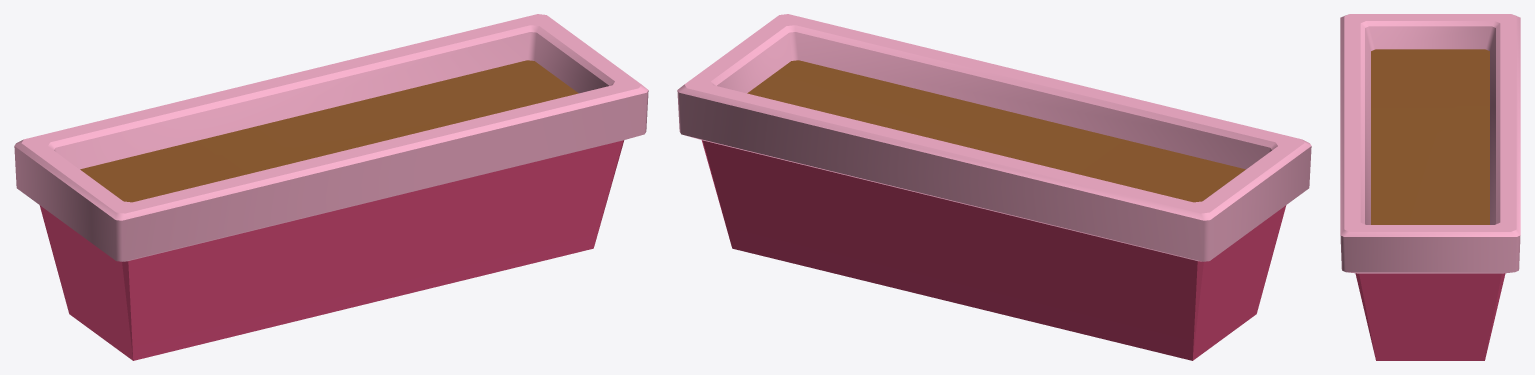
File: PlantPot_3_E.fbx
3 views of the same model, side by side, from view 1: azimuth 30°, elevation 25°; view 2: azimuth 150°, elevation 25°; view 3: azimuth 270°, elevation 25° (orthographic). The views are drawn at different scales.
Visible parts, largest first — view 1: PlantPot_3_E; view 2: PlantPot_3_E; view 3: PlantPot_3_E.
Part boxes in pixels (box(x1,y1,x2,y2)): PlantPot_3_E: box(14, 14, 648, 360); PlantPot_3_E: box(677, 14, 1311, 360); PlantPot_3_E: box(1340, 14, 1520, 360).
Bounding box in the file's own units: 79.88 × 24 × 27.48.
